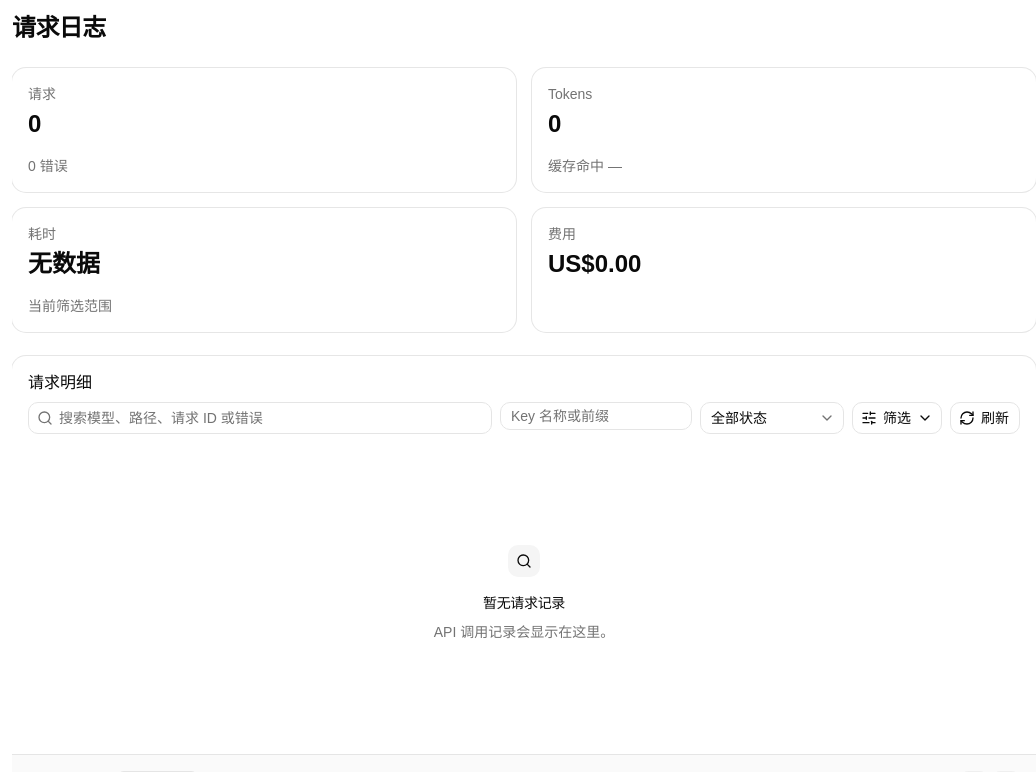
it: responsive request logs › sends the key filter and clears it without expanding advanced filters
In the field named "筛选 Key": (596, 416) [500,402,692,430], type "工作电脑"
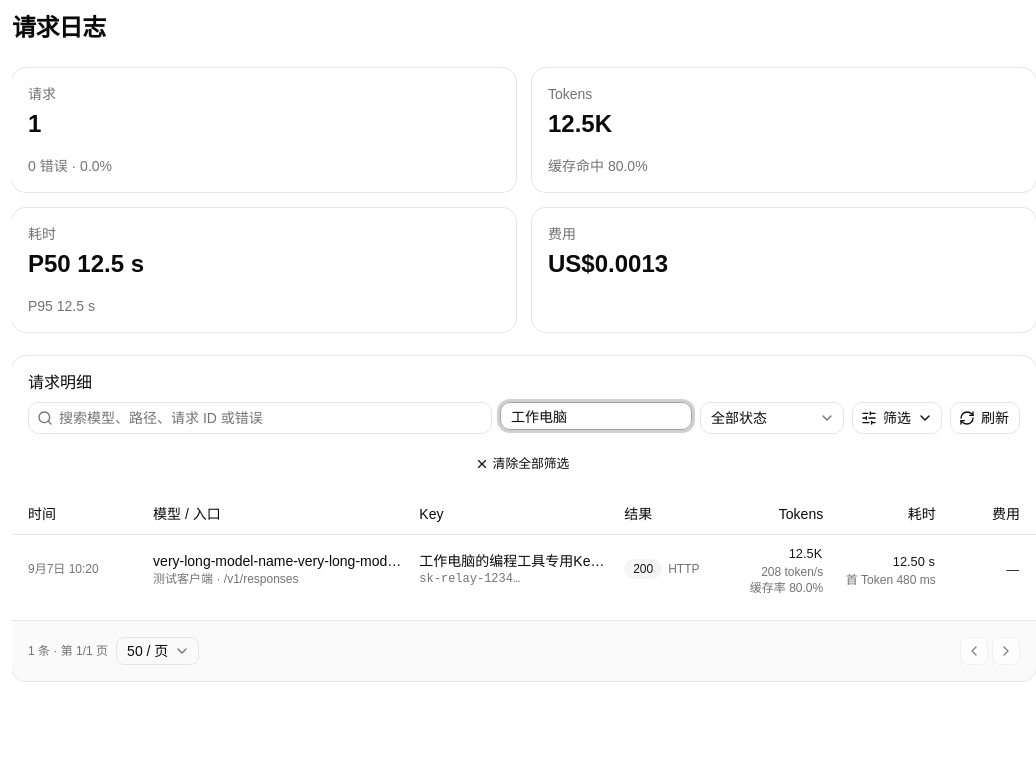
Click the button "清除全部筛选": (524, 464) [28,450,1020,478]
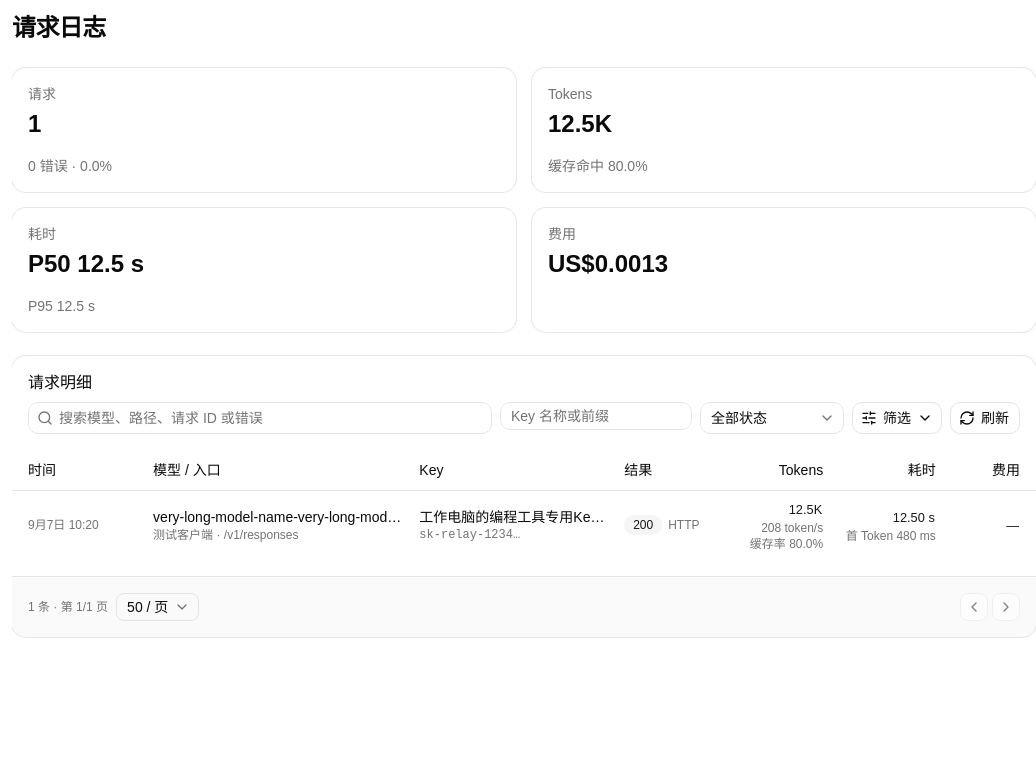
Expected: the field named "筛选 Key" is empty, [500,402,692,430]
